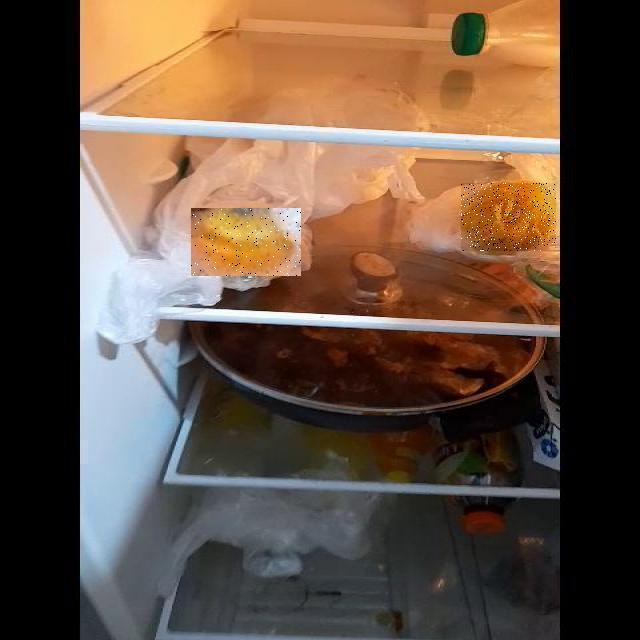Lemon: (191, 208, 301, 276), (461, 183, 556, 251)
